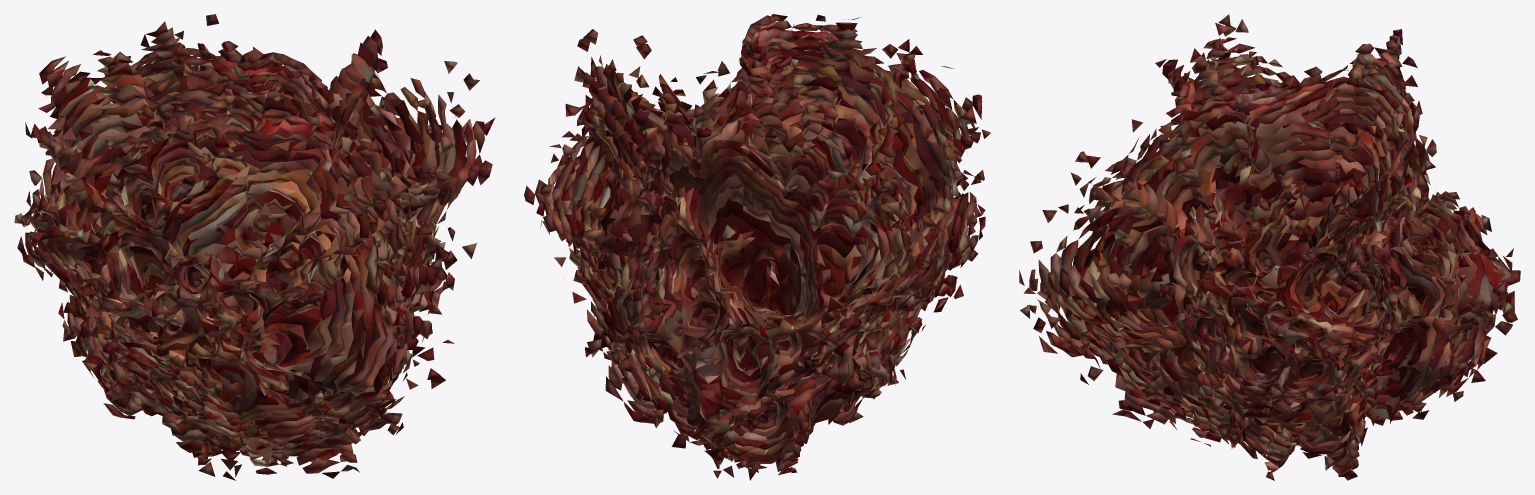
File: Blood_01.fbx
The picture shows the model from 3 angles, left to right: view 1: azimuth 30°, elevation 25°; view 2: azimuth 150°, elevation 25°; view 3: azimuth 270°, elevation 25°; orthographic projection. The views are drawn at different scales.
Parts seen in each view (by area): view 1: LOD_1_Group_11_Sub_1__lambert2, LOD_1_Group_10_Sub_1__lambert2, LOD_1_Group_12_Sub_1__lambert2, LOD_1_Group_9_Sub_1__lambert2, LOD_1_Group_13_Sub_1__lambert2, LOD_1_Group_8_Sub_1__lambert2, LOD_1_Group_7_Sub_1__lambert2, LOD_1_Group_14_Sub_1__lambert2, LOD_1_Group_6_Sub_1__lambert2, LOD_1_Group_15_Sub_1__lambert2, LOD_1_Group_5_Sub_1__lambert2, LOD_1_Group_4_Sub_1__lambert2 (+2 smaller); view 2: LOD_1_Group_11_Sub_1__lambert2, LOD_1_Group_12_Sub_1__lambert2, LOD_1_Group_10_Sub_1__lambert2, LOD_1_Group_13_Sub_1__lambert2, LOD_1_Group_9_Sub_1__lambert2, LOD_1_Group_8_Sub_1__lambert2, LOD_1_Group_14_Sub_1__lambert2, LOD_1_Group_7_Sub_1__lambert2, LOD_1_Group_6_Sub_1__lambert2, LOD_1_Group_15_Sub_1__lambert2, LOD_1_Group_5_Sub_1__lambert2, LOD_1_Group_4_Sub_1__lambert2 (+1 smaller); view 3: LOD_1_Group_11_Sub_1__lambert2, LOD_1_Group_12_Sub_1__lambert2, LOD_1_Group_10_Sub_1__lambert2, LOD_1_Group_13_Sub_1__lambert2, LOD_1_Group_9_Sub_1__lambert2, LOD_1_Group_8_Sub_1__lambert2, LOD_1_Group_14_Sub_1__lambert2, LOD_1_Group_7_Sub_1__lambert2, LOD_1_Group_15_Sub_1__lambert2, LOD_1_Group_6_Sub_1__lambert2, LOD_1_Group_5_Sub_1__lambert2, LOD_1_Group_4_Sub_1__lambert2.
Boxes of the visible parts, box(x1,y1,x2,y2) form: LOD_1_Group_11_Sub_1__lambert2: box(28, 53, 456, 455); LOD_1_Group_10_Sub_1__lambert2: box(37, 63, 446, 450); LOD_1_Group_12_Sub_1__lambert2: box(21, 42, 466, 465); LOD_1_Group_9_Sub_1__lambert2: box(47, 68, 438, 445); LOD_1_Group_13_Sub_1__lambert2: box(14, 35, 476, 466); LOD_1_Group_8_Sub_1__lambert2: box(62, 76, 430, 439); LOD_1_Group_7_Sub_1__lambert2: box(65, 89, 427, 433); LOD_1_Group_14_Sub_1__lambert2: box(25, 14, 484, 474); LOD_1_Group_6_Sub_1__lambert2: box(80, 106, 415, 431); LOD_1_Group_15_Sub_1__lambert2: box(17, 21, 495, 480); LOD_1_Group_5_Sub_1__lambert2: box(102, 129, 391, 435); LOD_1_Group_4_Sub_1__lambert2: box(125, 150, 372, 425); LOD_1_Group_11_Sub_1__lambert2: box(561, 46, 964, 461); LOD_1_Group_12_Sub_1__lambert2: box(552, 38, 974, 468); LOD_1_Group_10_Sub_1__lambert2: box(571, 58, 952, 454); LOD_1_Group_13_Sub_1__lambert2: box(543, 28, 985, 472); LOD_1_Group_9_Sub_1__lambert2: box(580, 71, 944, 449); LOD_1_Group_8_Sub_1__lambert2: box(589, 84, 936, 445); LOD_1_Group_14_Sub_1__lambert2: box(535, 20, 984, 480); LOD_1_Group_7_Sub_1__lambert2: box(597, 95, 928, 435); LOD_1_Group_6_Sub_1__lambert2: box(609, 110, 916, 430); LOD_1_Group_15_Sub_1__lambert2: box(524, 14, 990, 478); LOD_1_Group_5_Sub_1__lambert2: box(642, 127, 898, 427); LOD_1_Group_4_Sub_1__lambert2: box(665, 228, 883, 424); LOD_1_Group_11_Sub_1__lambert2: box(1049, 54, 1496, 458); LOD_1_Group_12_Sub_1__lambert2: box(1037, 43, 1514, 470); LOD_1_Group_10_Sub_1__lambert2: box(1061, 64, 1487, 454); LOD_1_Group_13_Sub_1__lambert2: box(1029, 37, 1509, 470); LOD_1_Group_9_Sub_1__lambert2: box(1072, 75, 1483, 448); LOD_1_Group_8_Sub_1__lambert2: box(1084, 88, 1475, 447); LOD_1_Group_14_Sub_1__lambert2: box(1019, 19, 1517, 480); LOD_1_Group_7_Sub_1__lambert2: box(1102, 127, 1466, 442); LOD_1_Group_15_Sub_1__lambert2: box(1020, 14, 1520, 480); LOD_1_Group_6_Sub_1__lambert2: box(1118, 140, 1460, 432); LOD_1_Group_5_Sub_1__lambert2: box(1128, 155, 1452, 428); LOD_1_Group_4_Sub_1__lambert2: box(1146, 171, 1396, 426).
Bounding box in the file's own units: 0.1333 × 0.1219 × 0.1464.
